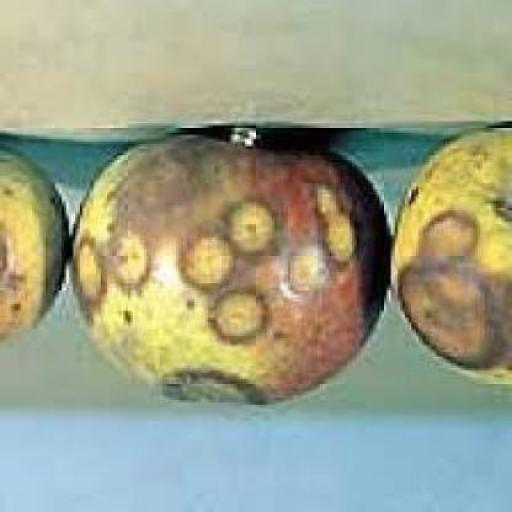biodegradable: (73, 135, 391, 407), (396, 135, 511, 388), (2, 148, 71, 350)
